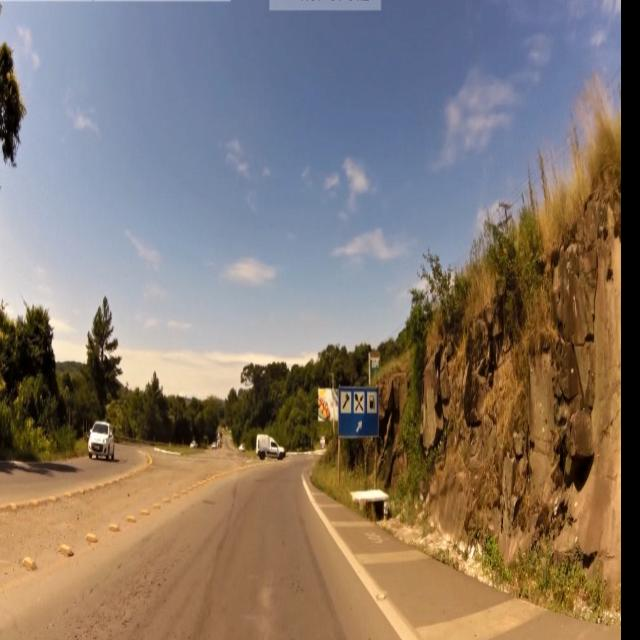LOC-6: (337, 385, 383, 445)
